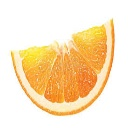orange: (9, 17, 115, 118)
